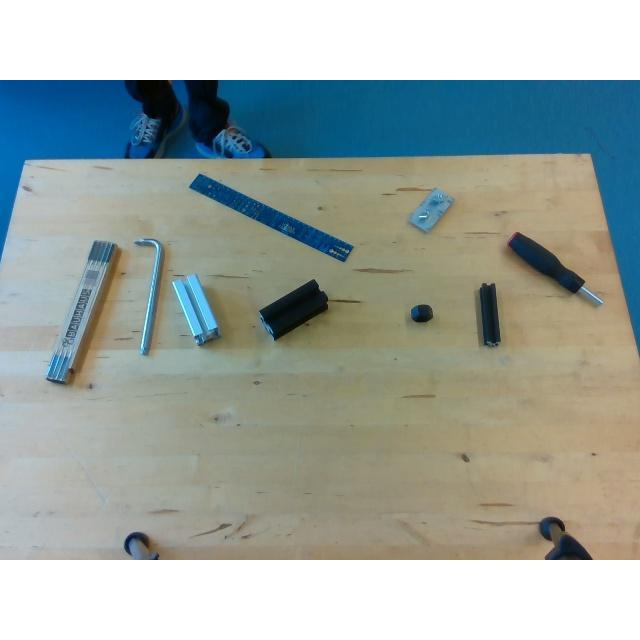AllenKey: (134, 237, 162, 356)
F20_20_B: (478, 282, 500, 346)
M20: (408, 303, 432, 321)
S40_40_B: (259, 279, 327, 339)
S40_40_G: (172, 273, 220, 343)
